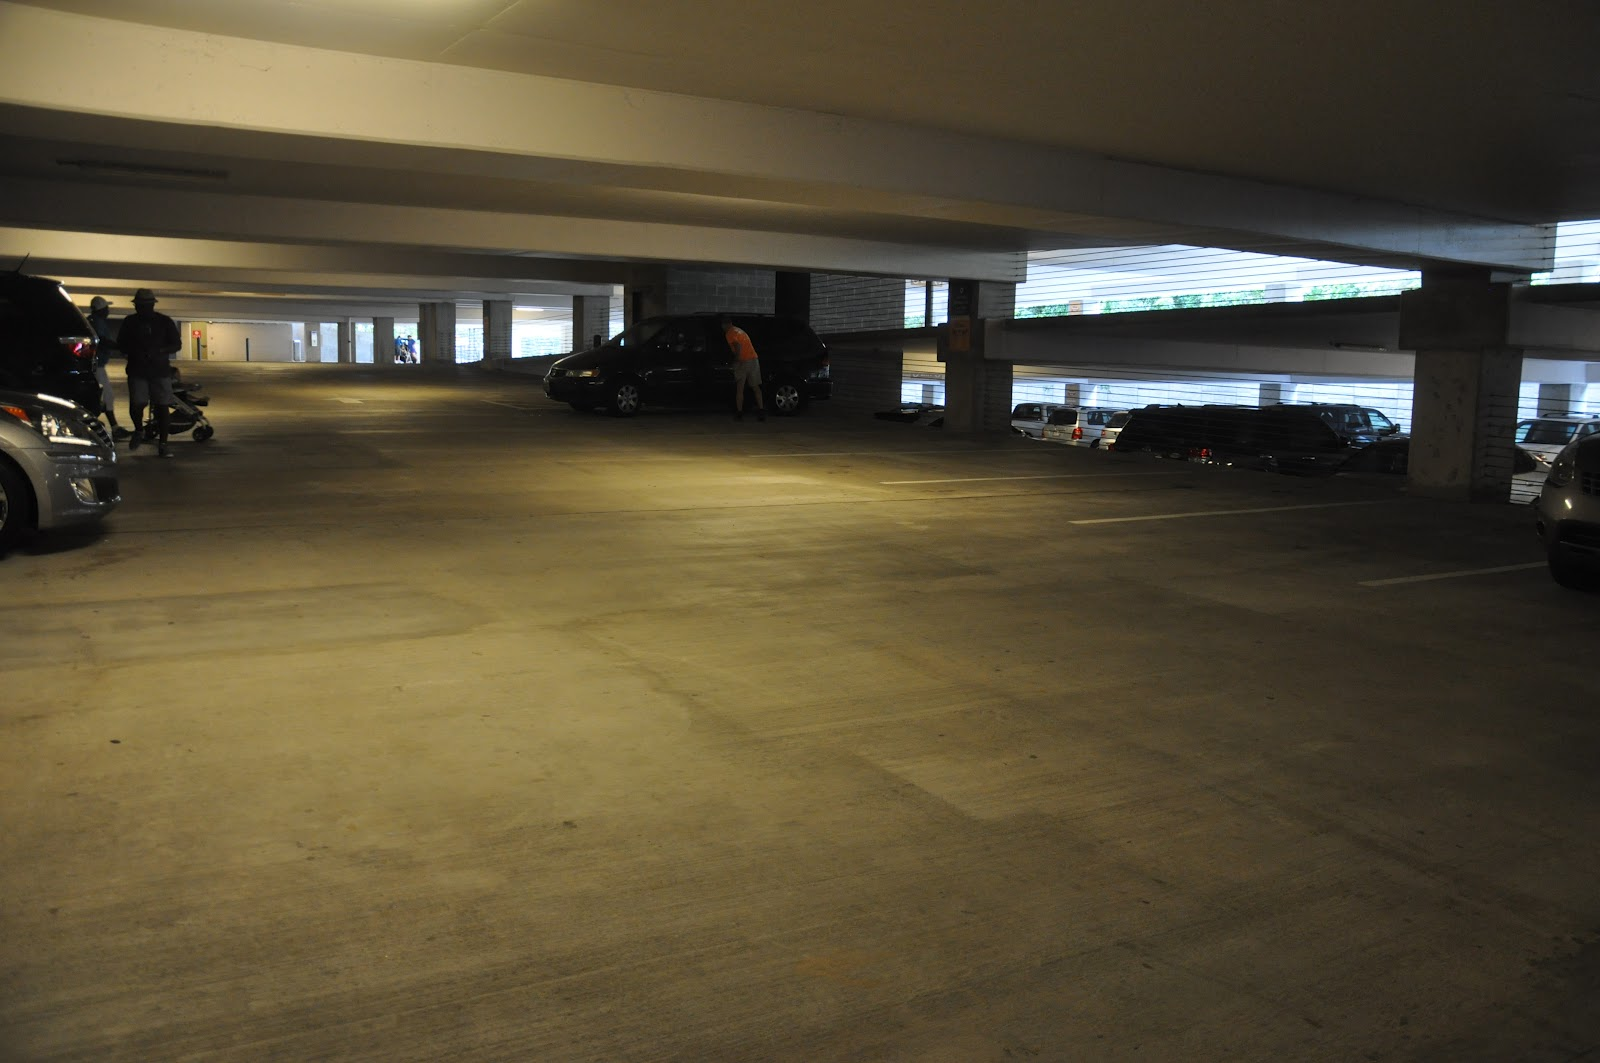empyt_space: (1048, 479, 1591, 587), (877, 467, 1411, 527), (737, 445, 1215, 492)
